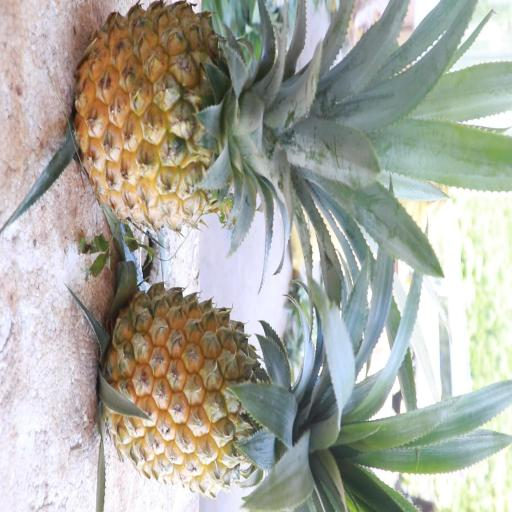Pineapple - v8 v1: (70, 0, 311, 238), (103, 278, 352, 500)
